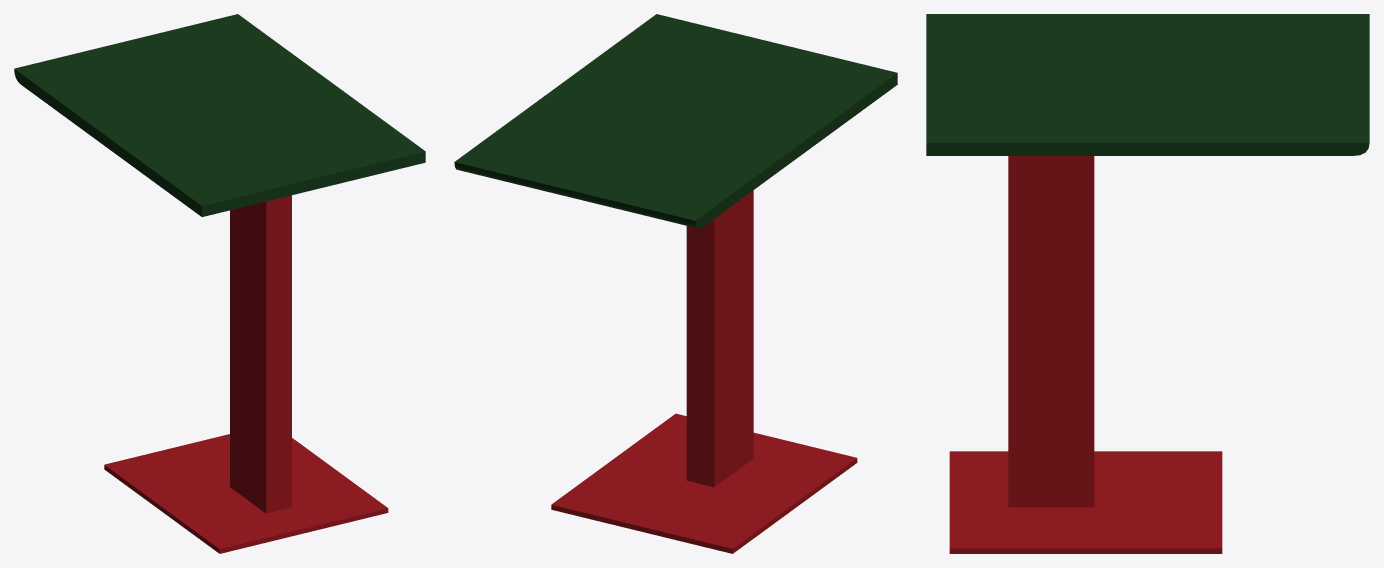
File: Table_Small.fbx
The picture shows the model from 3 angles, left to right: view 1: azimuth 30°, elevation 25°; view 2: azimuth 150°, elevation 25°; view 3: azimuth 270°, elevation 25°; orthographic projection. The views are drawn at different scales.
Parts seen in each view (by area): view 1: Table_Small001; view 2: Table_Small001; view 3: Table_Small001.
Boxes of the visible parts, left/top/right/bottom form: Table_Small001: left=14, top=14, right=425, bottom=553; Table_Small001: left=454, top=14, right=897, bottom=553; Table_Small001: left=926, top=14, right=1369, bottom=553.
Bounding box in the file's own units: 45.07 × 69.62 × 65.5.
